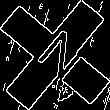N_SW: (23, 23, 87, 87)
